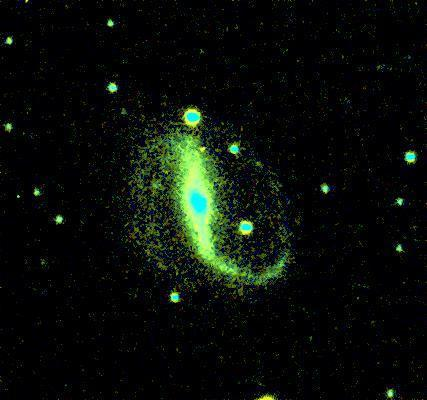star: (187, 132, 217, 162)
